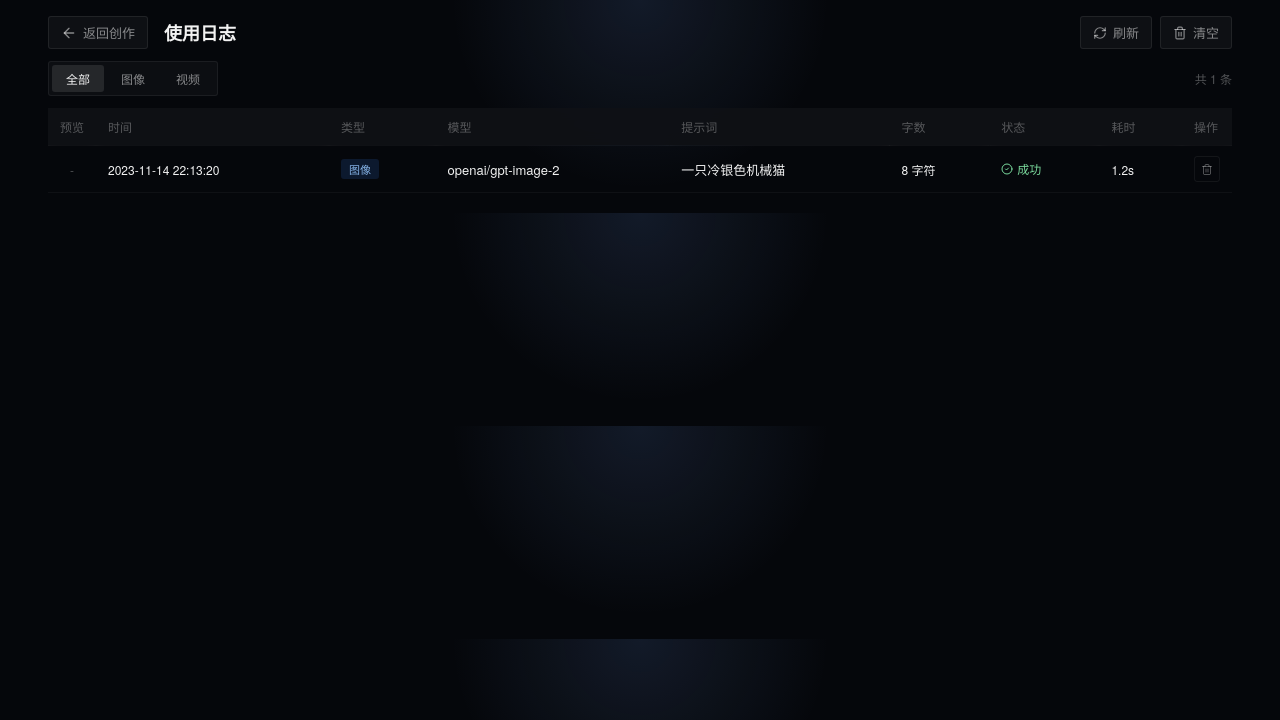
it: UsageLogPage › 点击日志行加载详情并展示 4 阶段 JSON 区块
The width and height of the screenshot is (1280, 720).
Click the row with class "log-row" at (640, 169), box [48, 146, 1232, 192]
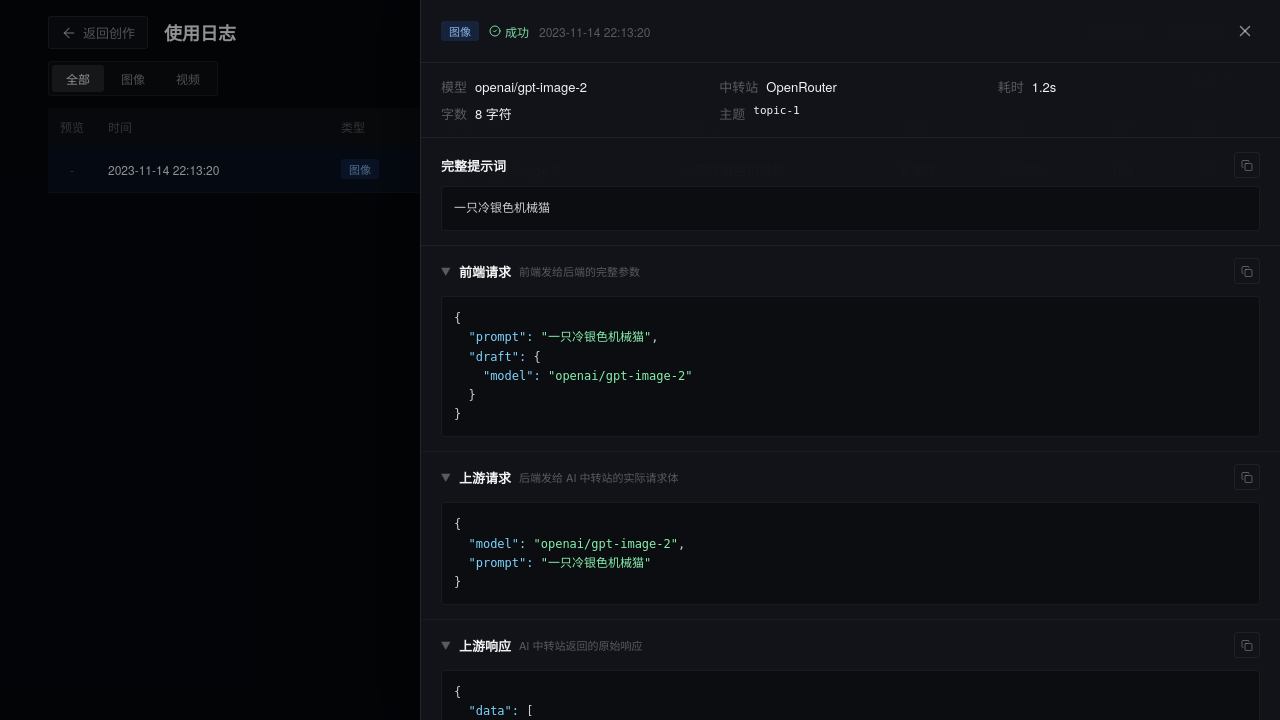
expect the element with class "detail-drawer" is shown: met
expect the text "前端请求" is shown: met, box [459, 262, 511, 281]
expect the text "上游请求" is shown: met, box [459, 468, 511, 487]
